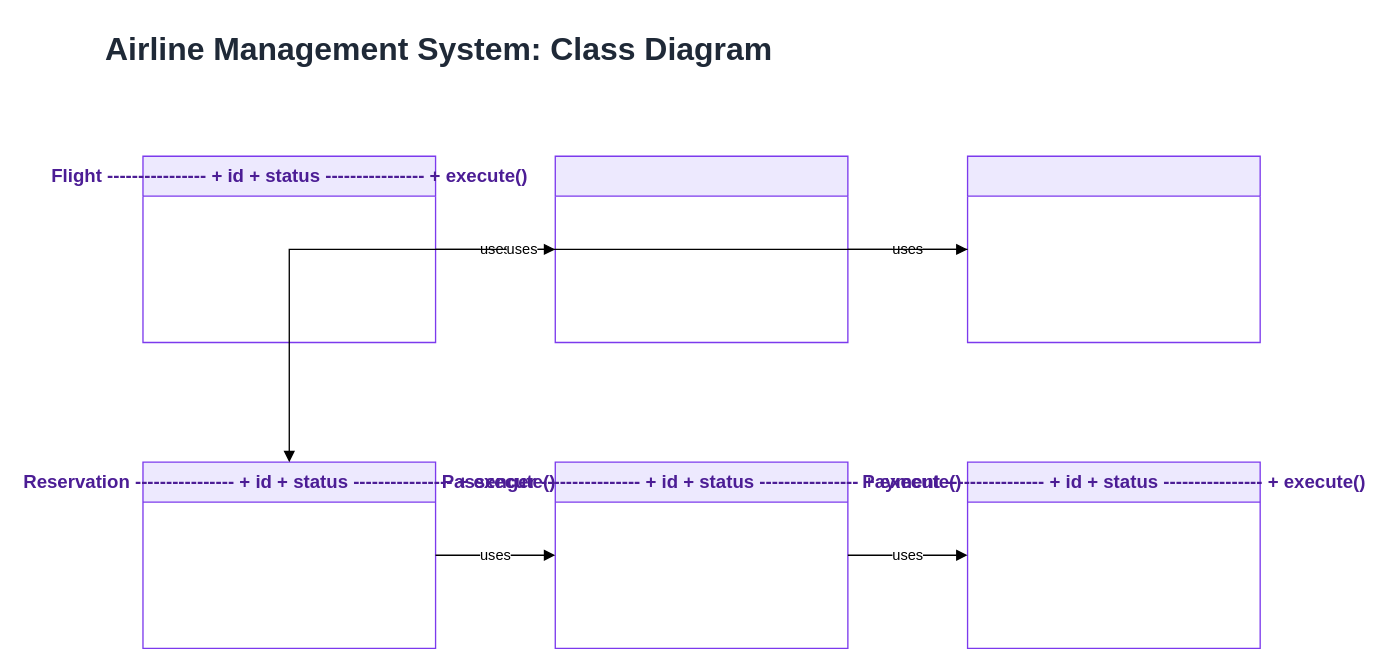
Image size: 1387x672. Some labels were removed from this diagram. The centre of each missing label's shape, as x and y in pixels:
Aircraft ---------------- + id + status ---------------- + execute(): the point at 701,248
Seat ---------------- + id + status ---------------- + execute(): the point at 1113,248
